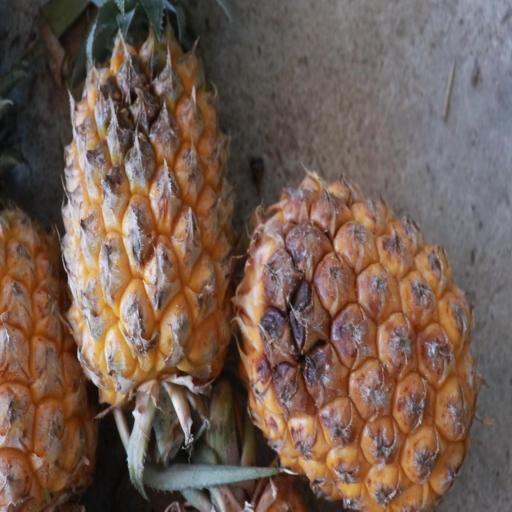Pineapple - v8 v1: (232, 179, 481, 512), (56, 2, 234, 433)
